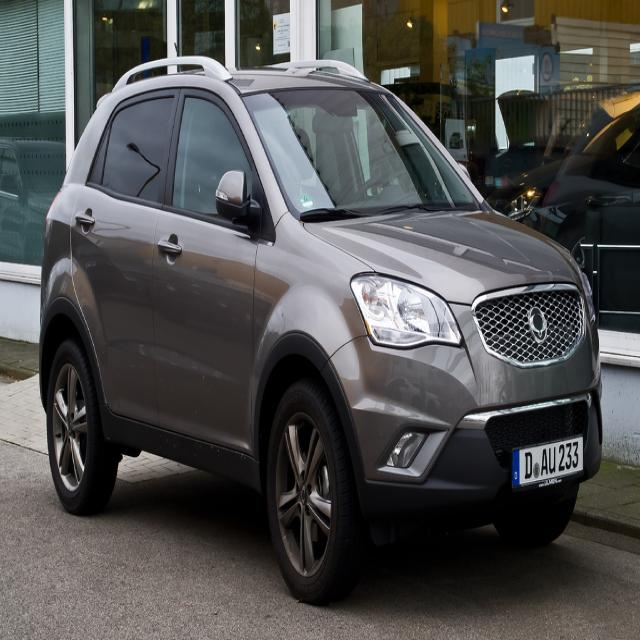car: (35, 34, 607, 604)
